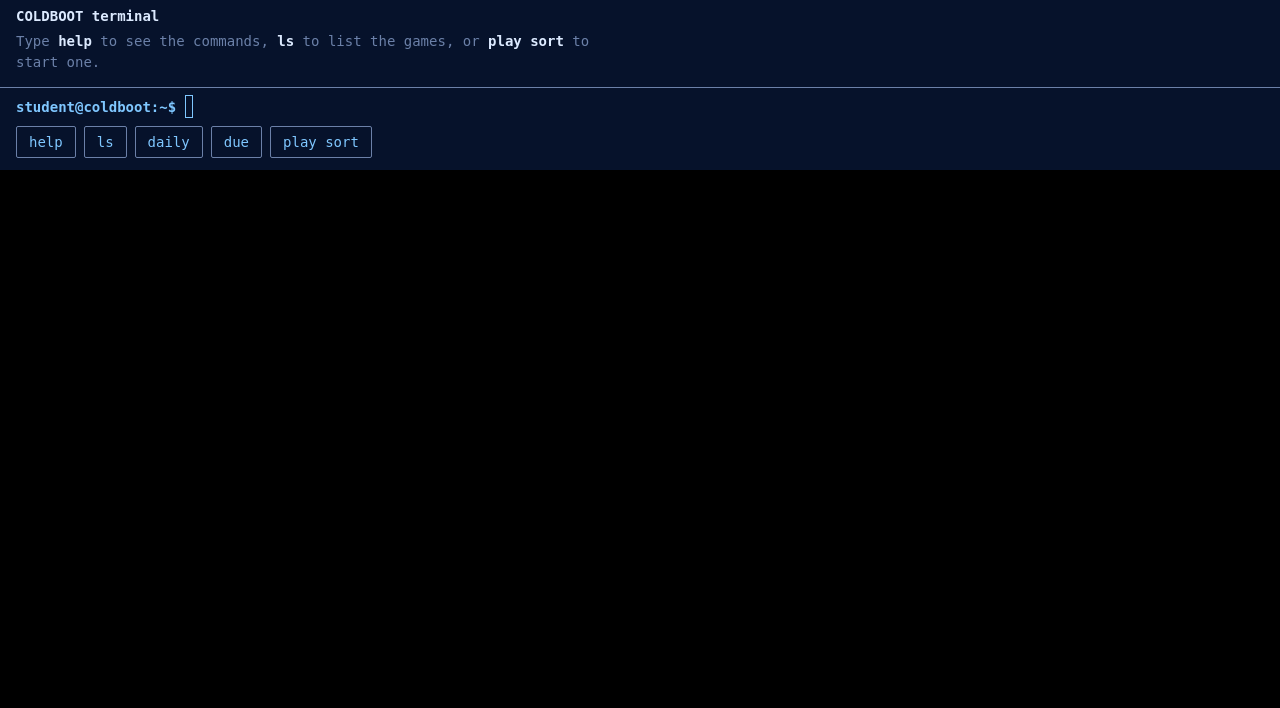
ux in the terminal › draws a mock-up, takes a characteristic by name, then asks why
Type "play ux" into the field labelled "student@coldboot:~$".
click(724, 107); type("play ux")  # box 185,95 -> 1264,118
Then press Enter
(page scrolled)
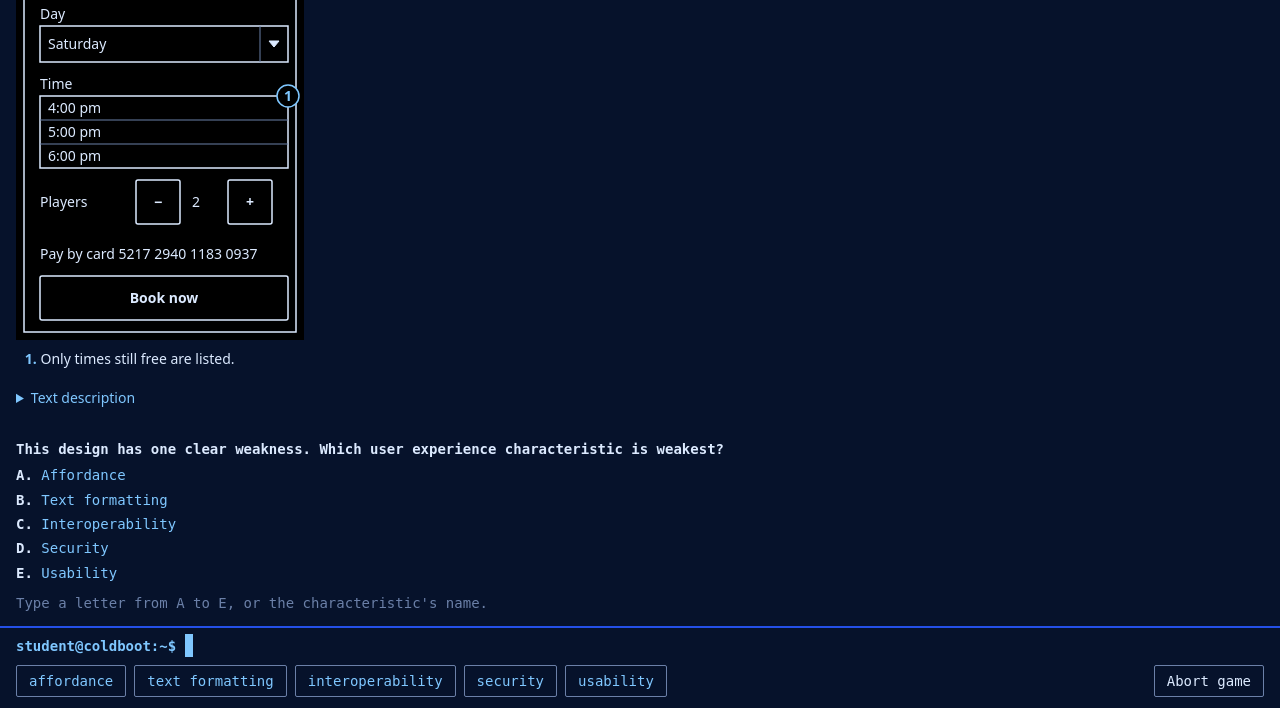
Expected: the element named "Mock-up of the Book a court screen" shows "Text description", 31,388 -> 135,407
Type "maybe" into the field labelled "student@coldboot:~$".
click(724, 646); type("maybe")  # box 185,634 -> 1264,657
Then press Enter
(page scrolled)
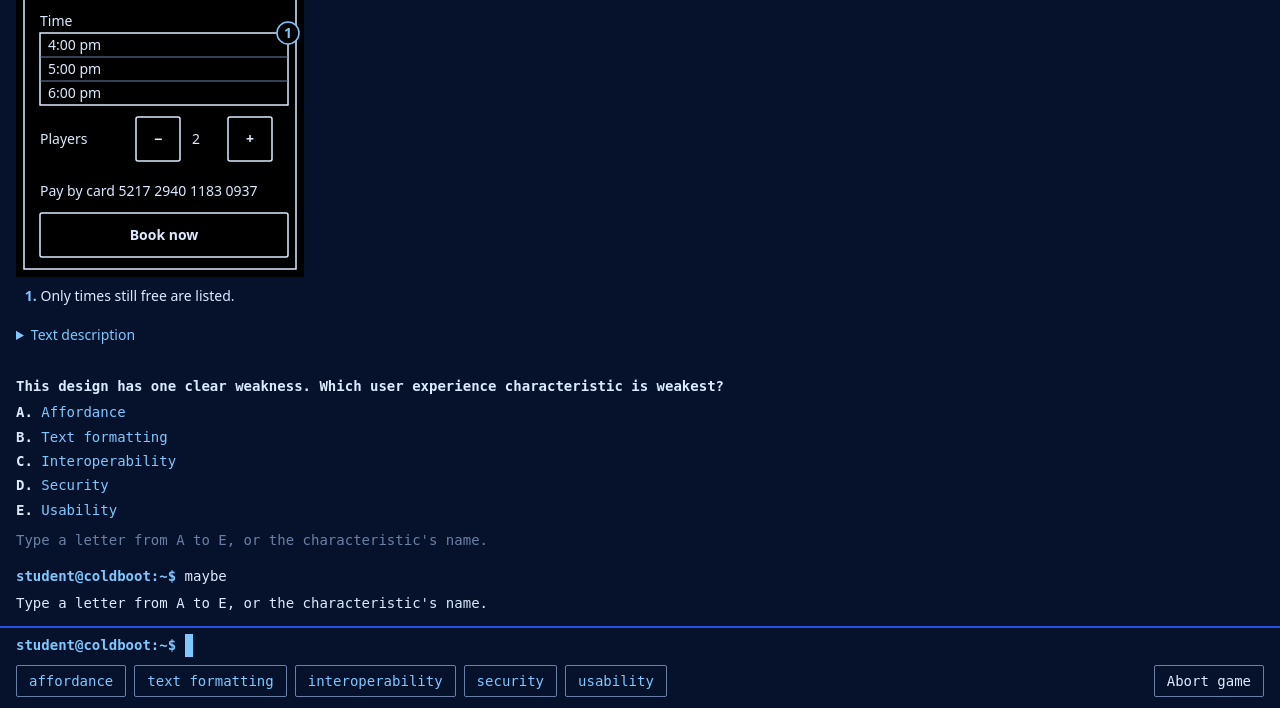
Type "security" into the field labelled "student@coldboot:~$".
click(724, 646); type("security")  # box 185,634 -> 1264,657
Then press Enter
(page scrolled)
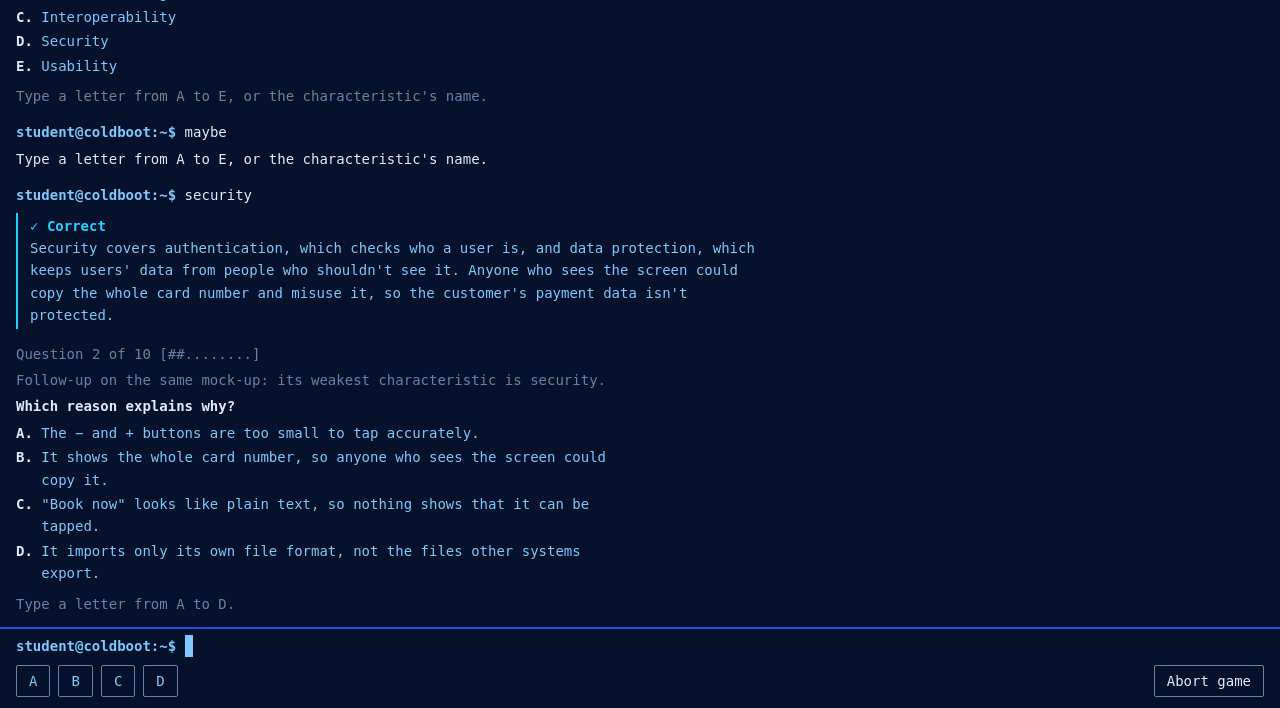
Expected: the text "Correct" is shown, 47,218 -> 106,234
Type "A" into the field labelled "student@coldboot:~$".
click(724, 646); type("A")  # box 185,635 -> 1264,657
Then press Enter
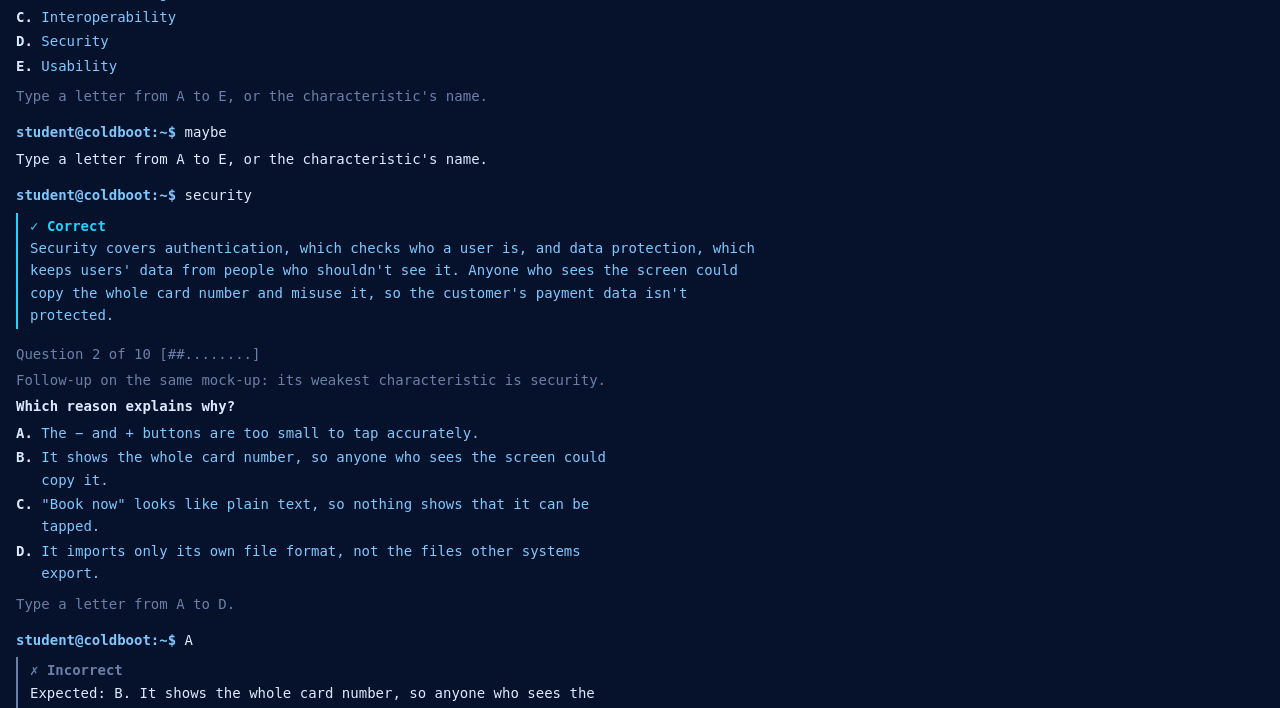
Expected: the text "Incorrect" is shown, 47,662 -> 123,678
